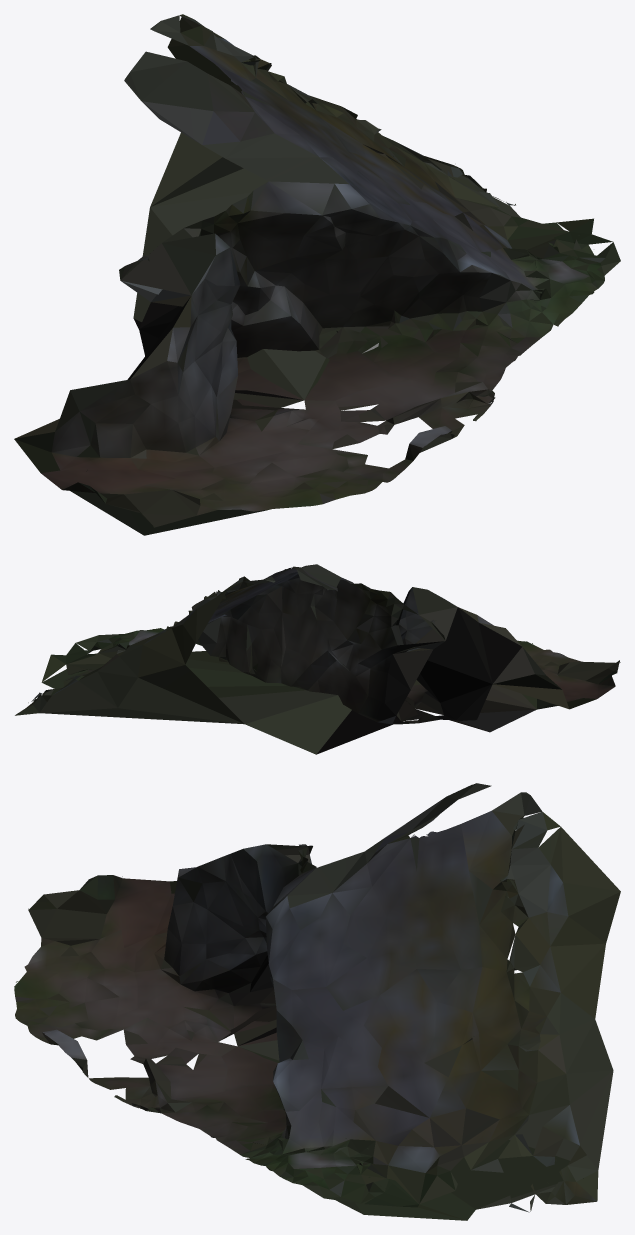
Rendered from HIS_0110_Cleanup_reduced_0.0001.glb.
The picture shows the model from 3 angles, top to bottom: view 1: azimuth 30°, elevation 25°; view 2: azimuth 150°, elevation 25°; view 3: azimuth 270°, elevation 25°; orthographic projection. The views are drawn at different scales.
Visible parts, largest first — view 1: HIS_0110; view 2: HIS_0110; view 3: HIS_0110.
Boxes of the visible parts, x1,y1,x2,y2 form: HIS_0110: [14, 14, 620, 535]; HIS_0110: [15, 564, 620, 754]; HIS_0110: [14, 783, 620, 1220].
Bounding box in the file's own units: 51.36 × 20.11 × 40.99.
Materials: 2 (1 with a texture image).
